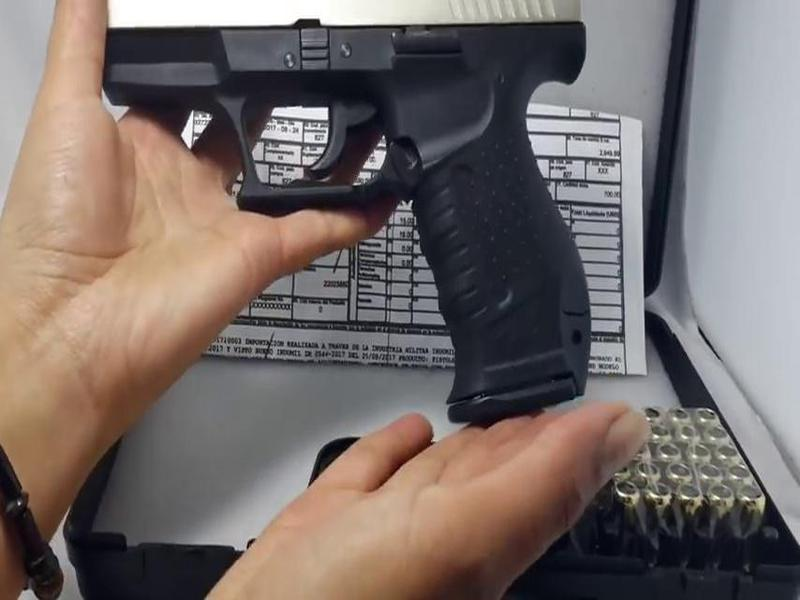Pistola: (53, 1, 623, 421)
